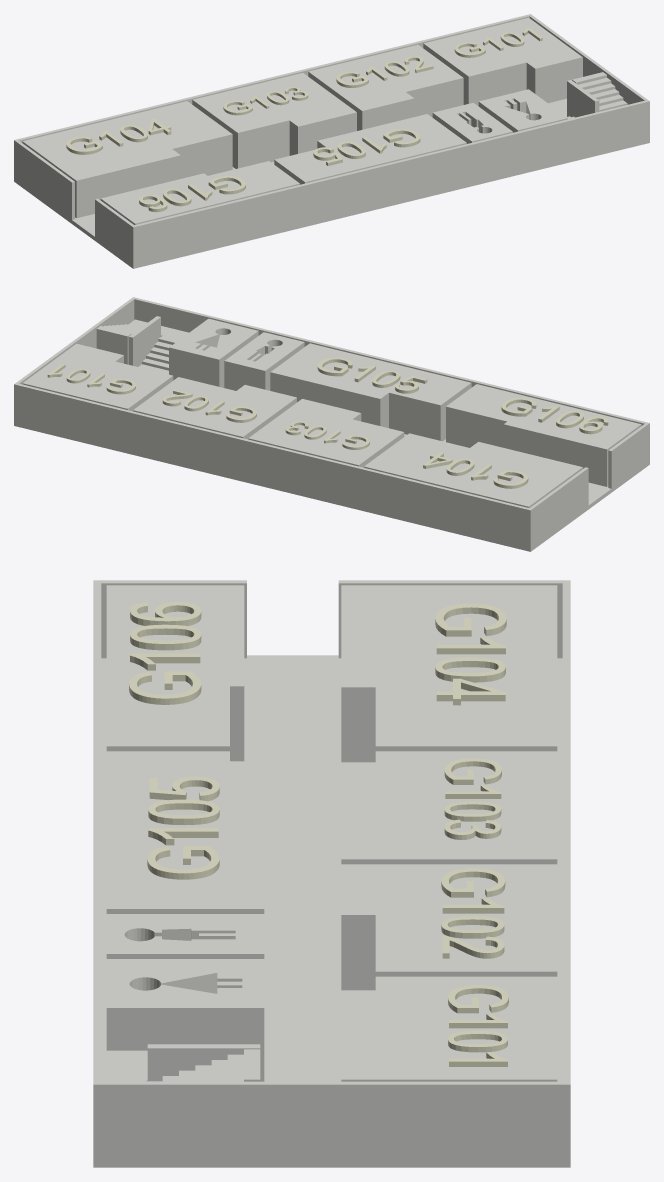
Rendered from Edificio G - Piso 1.obj.
3 renders of one model, top to bottom at view 1: azimuth 30°, elevation 25°; view 2: azimuth 150°, elevation 25°; view 3: azimuth 270°, elevation 25°, orthographic. The views are drawn at different scales.
Visible parts, largest first — view 1: G_P1_Borde_Sur, Mesh36_Model, Mesh38_Model, Mesh40_Model, Mesh39_Model, Mesh41_Model, Mesh37_Model, G_P1_Base, G_P1_Borde_Oeste_Norte, Mesh11_Group2_Model, G_P1_Borde_Norte, Mesh42_Model (+10 smaller); view 2: G_P1_Borde_Norte, Mesh41_Model, Mesh37_Model, Mesh36_Model, Mesh38_Model, Mesh39_Model, Mesh40_Model, Mesh11_Group2_Model, G_P1_Borde_Sur, G_P1_Base, Mesh42_Model, G_P1_Borde_Oeste_Norte (+11 smaller); view 3: G_P1_Base, G_P1_Borde_Este, Mesh36_Model, Mesh39_Model, Mesh38_Model, Mesh41_Model, Mesh37_Model, Mesh40_Model, Mesh11_Group2_Model, Mesh42_Model, G_P1_Borde_Norte, G_P1_Borde_Sur (+11 smaller).
Boxes of the visible parts, left/top/right/bottom form: G_P1_Borde_Sur: left=131, top=100, right=649, bottom=264; Mesh36_Model: left=22, top=101, right=232, bottom=218; Mesh38_Model: left=192, top=73, right=356, bottom=168; Mesh40_Model: left=423, top=17, right=582, bottom=106; Mesh39_Model: left=308, top=45, right=463, bottom=130; Mesh41_Model: left=274, top=114, right=466, bottom=184; Mesh37_Model: left=100, top=161, right=299, bottom=224; G_P1_Base: left=14, top=98, right=649, bottom=268; G_P1_Borde_Oeste_Norte: left=16, top=141, right=74, bottom=219; Mesh11_Group2_Model: left=478, top=89, right=567, bottom=132; G_P1_Borde_Norte: left=14, top=14, right=532, bottom=178; Mesh42_Model: left=432, top=102, right=512, bottom=143; G_P1_Borde_Norte: left=14, top=383, right=532, bottom=547; Mesh41_Model: left=270, top=343, right=471, bottom=441; Mesh37_Model: left=446, top=384, right=641, bottom=486; Mesh36_Model: left=364, top=433, right=582, bottom=507; Mesh38_Model: left=248, top=399, right=404, bottom=467; Mesh39_Model: left=133, top=377, right=296, bottom=439; Mesh40_Model: left=22, top=343, right=173, bottom=411; Mesh11_Group2_Model: left=169, top=318, right=258, bottom=387; G_P1_Borde_Sur: left=131, top=297, right=649, bottom=461; G_P1_Base: left=14, top=422, right=649, bottom=551; Mesh42_Model: left=224, top=332, right=304, bottom=390; G_P1_Borde_Oeste_Norte: left=530, top=467, right=588, bottom=545; G_P1_Base: left=93, top=655, right=570, bottom=1167; G_P1_Borde_Este: left=101, top=1081, right=562, bottom=1159; Mesh36_Model: left=341, top=585, right=557, bottom=762; Mesh39_Model: left=341, top=864, right=557, bottom=990; Mesh38_Model: left=341, top=751, right=557, bottom=864; Mesh41_Model: left=106, top=751, right=264, bottom=913; Mesh37_Model: left=106, top=585, right=244, bottom=761; Mesh40_Model: left=341, top=976, right=557, bottom=1081; Mesh11_Group2_Model: left=106, top=959, right=264, bottom=1081; Mesh42_Model: left=106, top=914, right=264, bottom=958; G_P1_Borde_Norte: left=562, top=580, right=570, bottom=1159; G_P1_Borde_Sur: left=93, top=580, right=101, bottom=1159.
Size of the model in its own units: 3240 by 268 by 1296.
